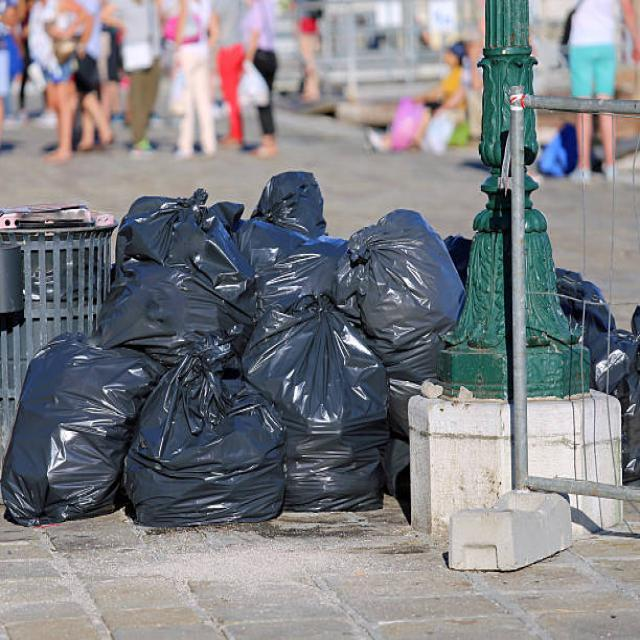garbage: (12, 180, 462, 534)
